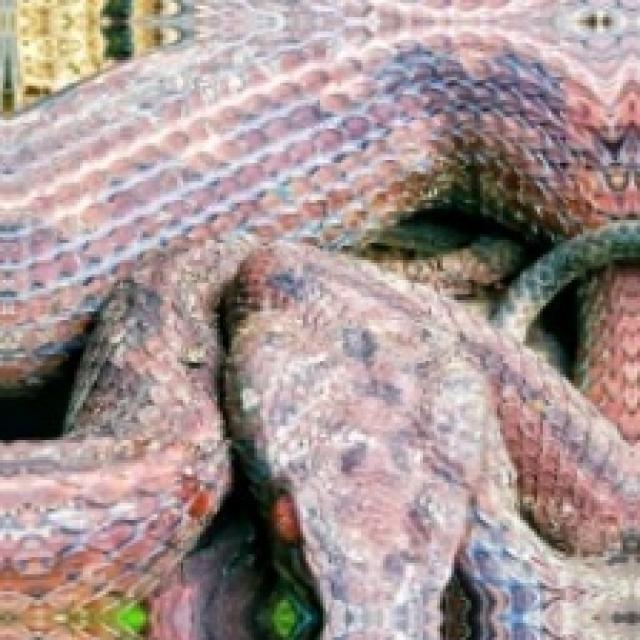philippine pitviper: (0, 0, 637, 637), (0, 240, 637, 637), (234, 251, 637, 637)
